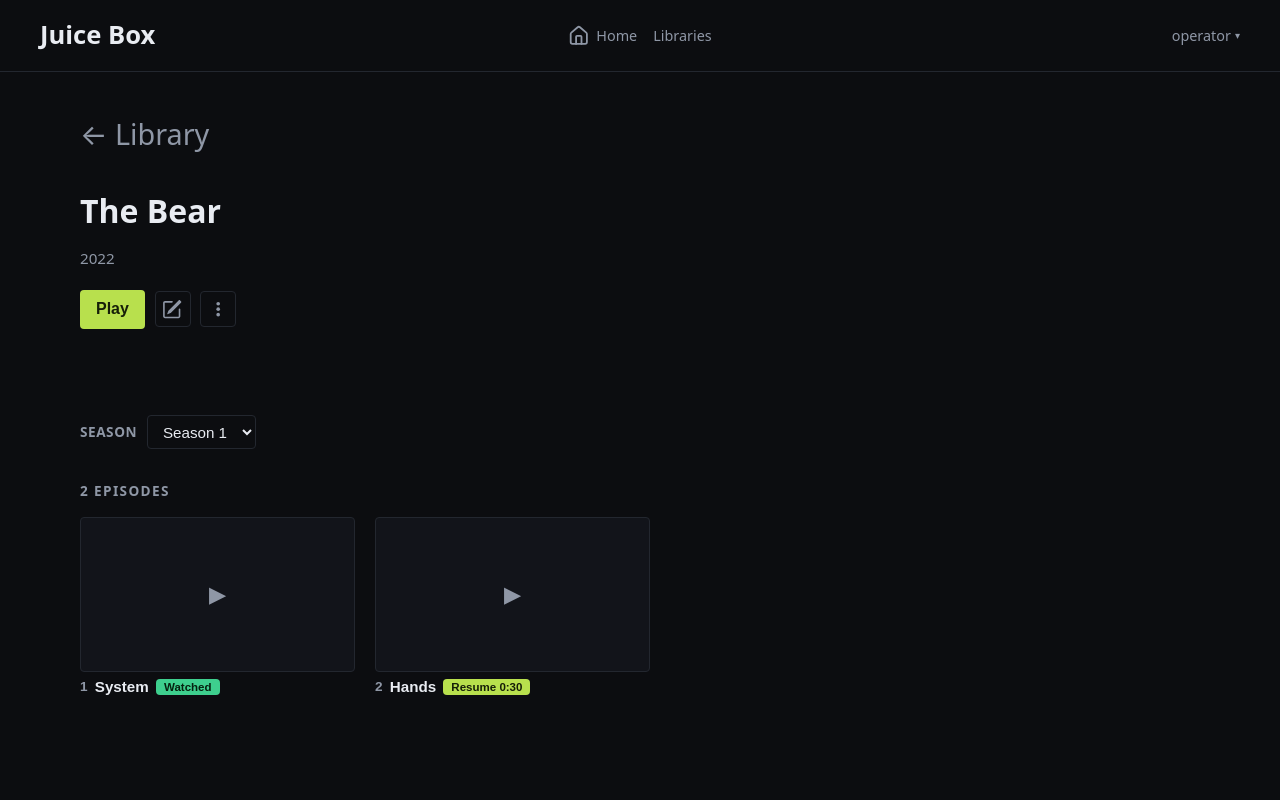
Test: Show detail › switches to the chosen Season's Episodes when the picker changes
Select "Specials" in the dropdown with test id "season-select" at (201, 432), box [147,415,256,449]
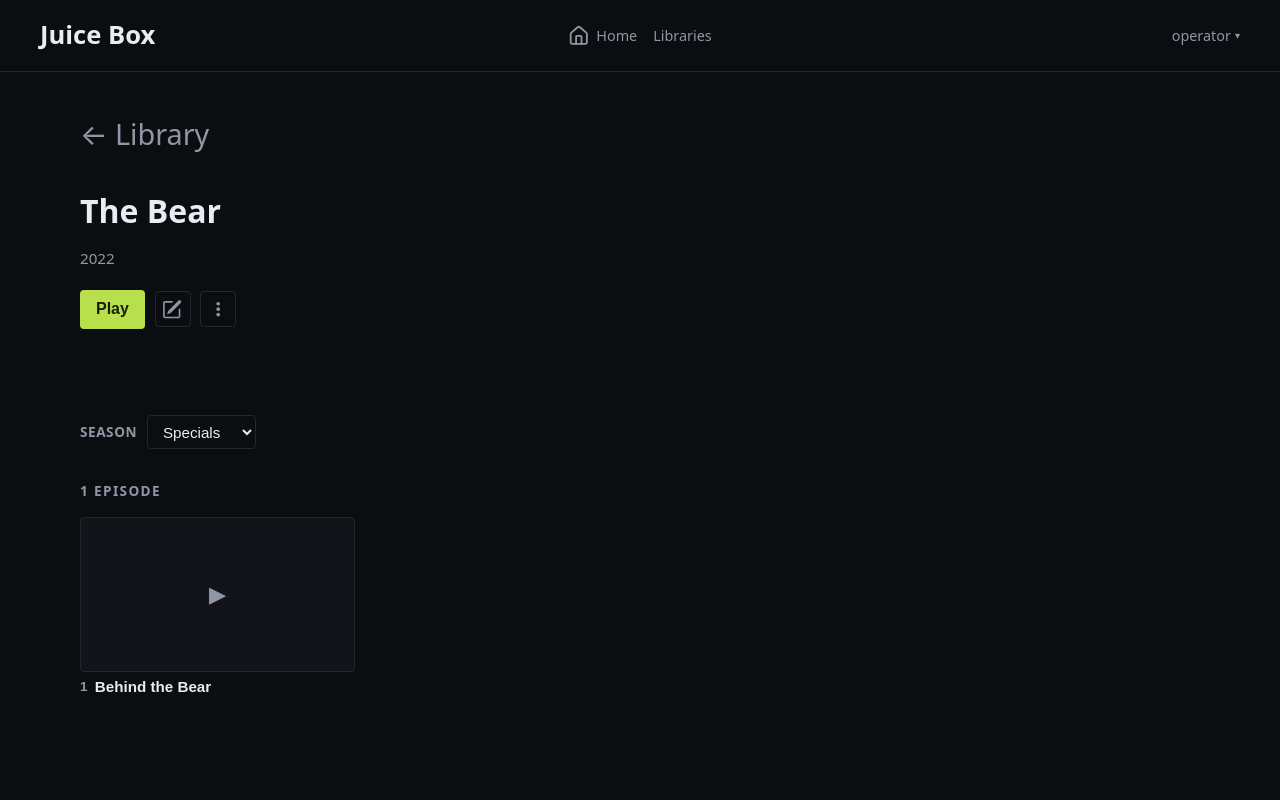
Now the text with test id "episode-title" reads "Behind the Bear", box [95,678,211,695]
Now the number of list items with test id "episode-row" is 1, box [80,517,355,696]
